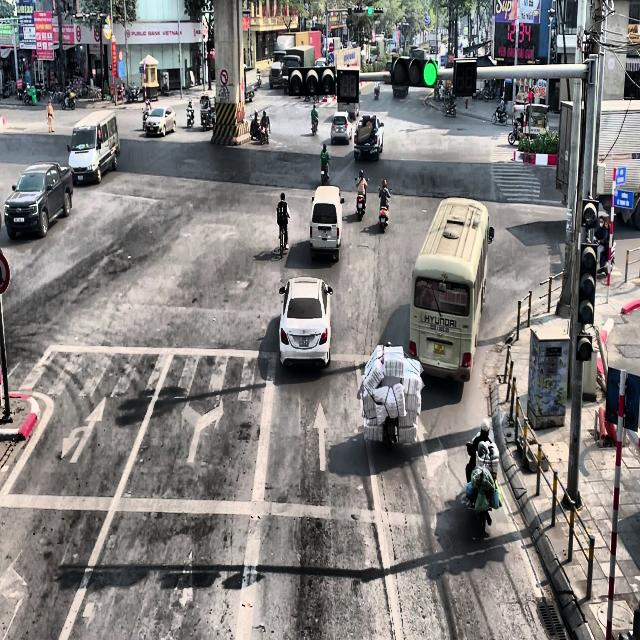BUS: (408, 196, 494, 383)
CAR: (4, 162, 73, 240), (278, 276, 333, 369), (354, 115, 384, 162), (144, 106, 176, 137), (331, 112, 352, 145)
MOTORBIKE: (466, 442, 496, 535), (355, 177, 369, 221), (378, 188, 391, 232), (277, 217, 288, 258), (508, 117, 523, 145), (249, 114, 261, 140), (492, 106, 508, 125), (320, 159, 330, 185), (259, 123, 269, 145), (445, 100, 457, 117), (142, 108, 150, 131), (187, 106, 194, 128), (311, 118, 318, 136), (374, 84, 380, 99), (256, 73, 262, 86)
TRAFFIC_LIGHT: (389, 54, 439, 89), (578, 242, 598, 325), (367, 6, 372, 16)
